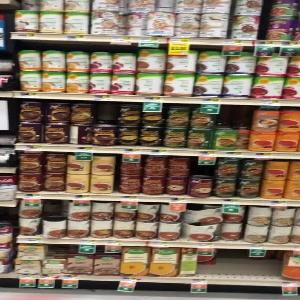void: (218, 249, 287, 285)
